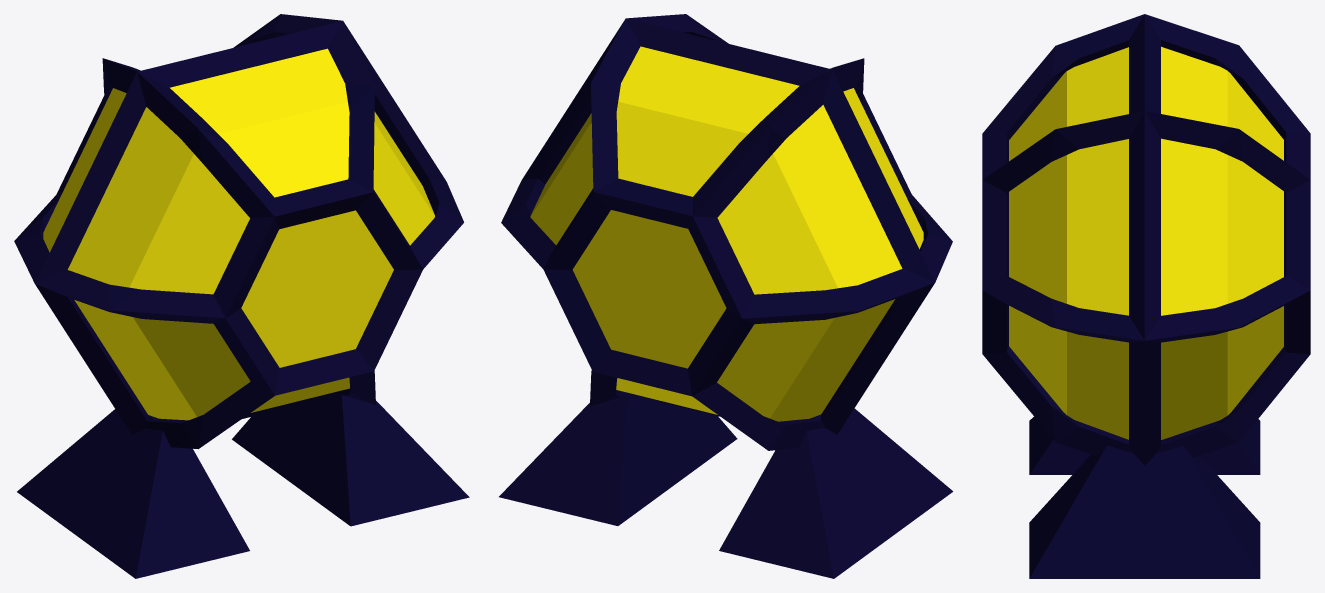
The model's file is laserlens.fbx.
3 renders of one model, left to right at view 1: azimuth 30°, elevation 25°; view 2: azimuth 150°, elevation 25°; view 3: azimuth 270°, elevation 25°, orthographic. The views are drawn at different scales.
Visible parts, largest first — view 1: Cube.017, Cube.015, Cube.016; view 2: Cube.017, Cube.015, Cube.016; view 3: Cube.017, Cube.015, Cube.016.
Boxes of the visible parts, x1,y1,x2,y2 form: Cube.017: (43, 48, 434, 420); Cube.015: (14, 14, 463, 449); Cube.016: (17, 392, 469, 578); Cube.017: (530, 46, 923, 421); Cube.015: (501, 14, 952, 450); Cube.016: (499, 393, 952, 578); Cube.017: (1009, 46, 1283, 439); Cube.015: (982, 14, 1310, 465); Cube.016: (1029, 417, 1260, 578).
Bounding box in the file's own units: 310 × 220 × 323.
